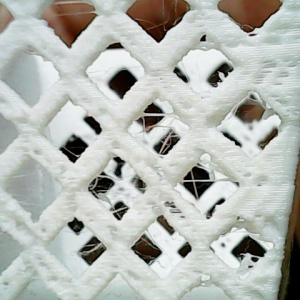3dpstringing: (131, 98, 196, 160), (83, 161, 148, 219), (48, 224, 108, 272), (125, 228, 183, 275), (175, 164, 234, 205), (6, 168, 47, 215), (137, 3, 190, 35), (44, 125, 87, 164), (43, 3, 100, 24), (176, 53, 205, 93), (226, 250, 262, 274), (215, 225, 258, 242), (216, 98, 241, 125), (214, 68, 242, 90), (233, 18, 259, 41)
3dpunderextrusion: (13, 221, 60, 282), (256, 57, 296, 109), (158, 197, 195, 235), (189, 266, 230, 291), (240, 172, 273, 192)
